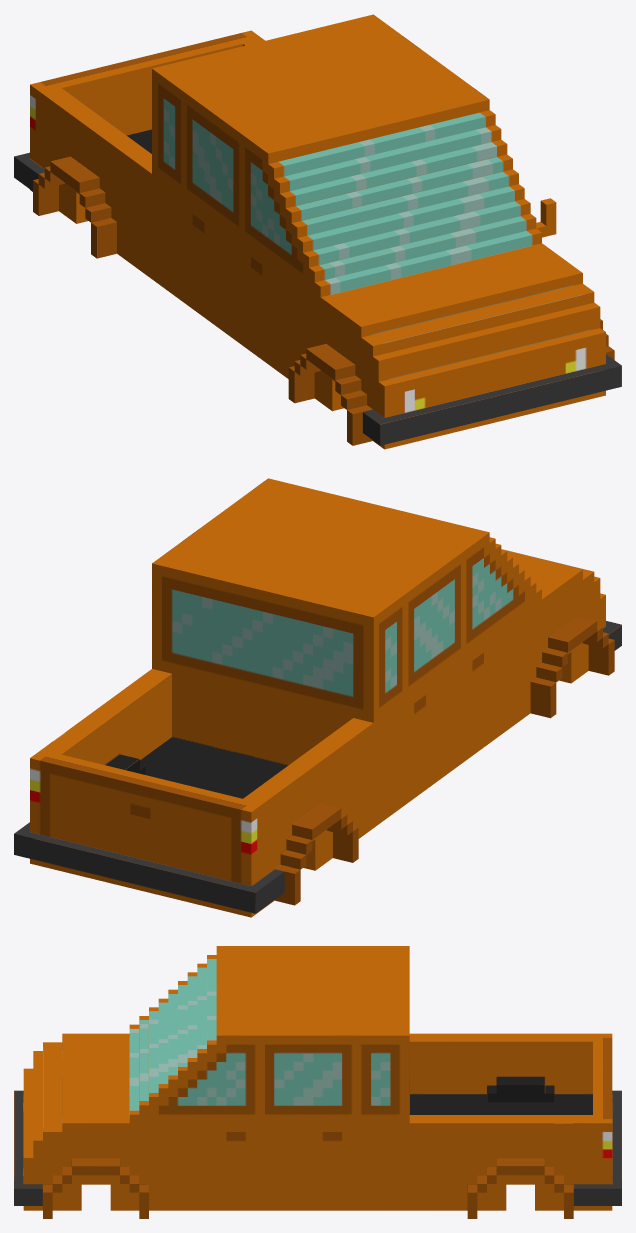
Rendered from Truck_3.obj.
The picture shows the model from 3 angles, top to bottom: view 1: azimuth 30°, elevation 25°; view 2: azimuth 150°, elevation 25°; view 3: azimuth 270°, elevation 25°; orthographic projection. The views are drawn at different scales.
Visible parts, largest first — view 1: Truck_3_Truck_3.001; view 2: Truck_3_Truck_3.001; view 3: Truck_3_Truck_3.001.
Boxes of the visible parts, box(x1,y1,x2,y2) form: Truck_3_Truck_3.001: box(14, 14, 621, 449); Truck_3_Truck_3.001: box(14, 478, 621, 917); Truck_3_Truck_3.001: box(14, 946, 621, 1218).
Bounding box in the file's own units: 2.6 × 2 × 6.3.
